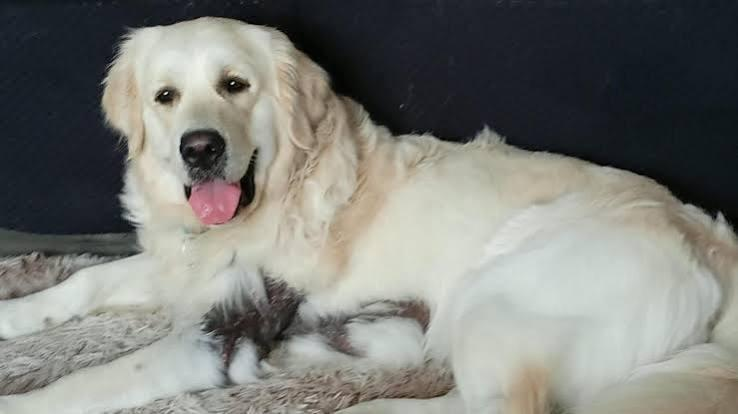adult_dog: (0, 14, 738, 414)
